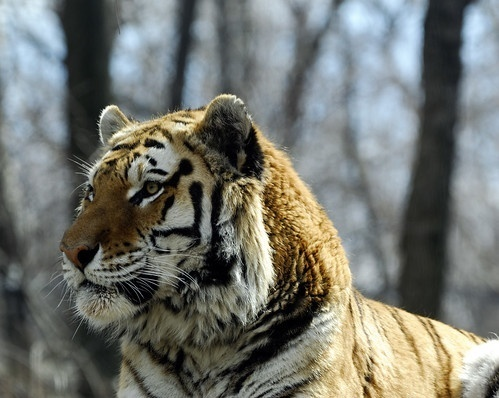tigre: (60, 94, 468, 397)
